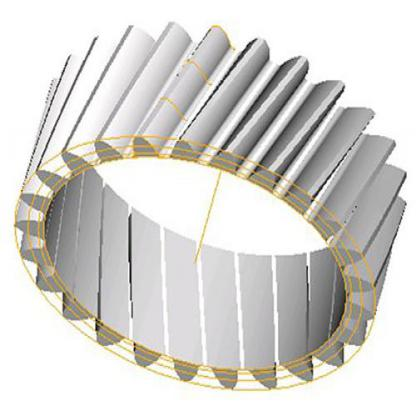FOD: (10, 18, 408, 398)
